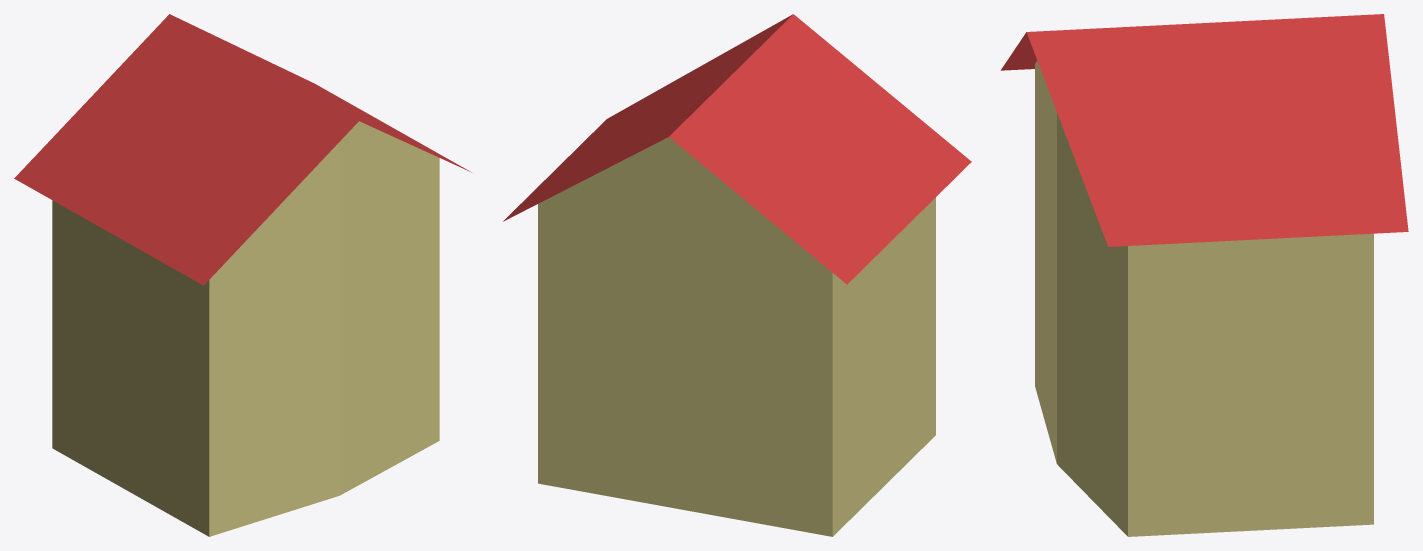
3 renders of one model, left to right at view 1: azimuth 30°, elevation 25°; view 2: azimuth 150°, elevation 25°; view 3: azimuth 270°, elevation 25°, orthographic. The views are drawn at different scales.
Size of the model in its own units: 7.37 by 6.54 by 7.7.
